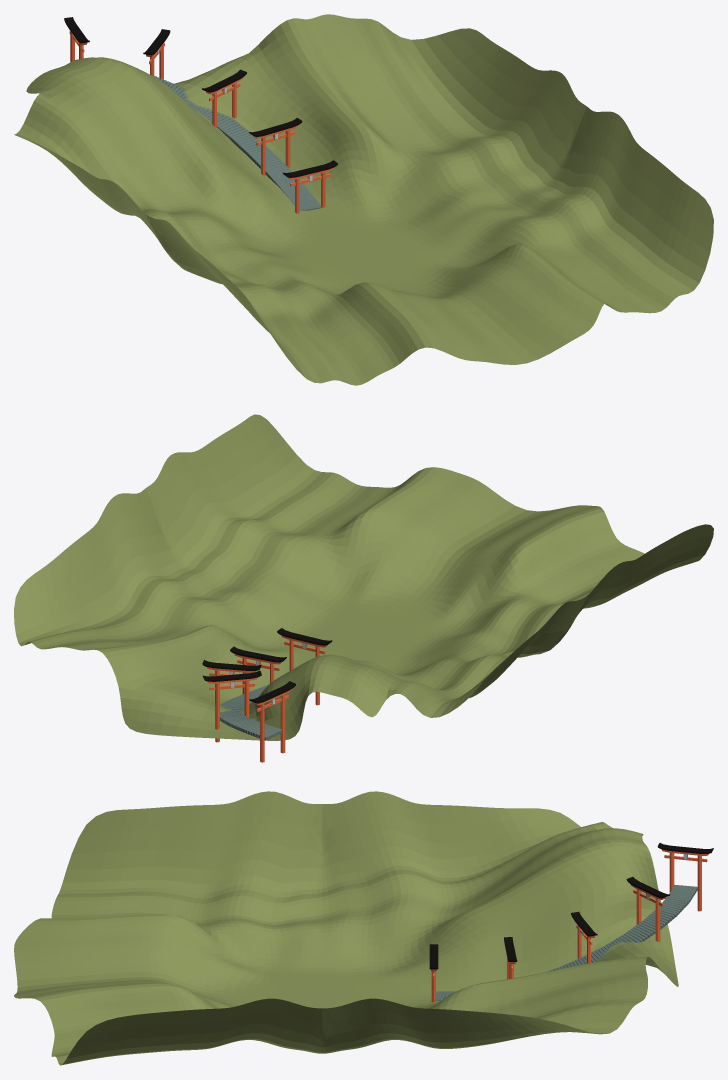
Rendered from bamboo_forest_clearing_ground.glb.
3 renders of one model, top to bottom at view 1: azimuth 30°, elevation 25°; view 2: azimuth 150°, elevation 25°; view 3: azimuth 270°, elevation 25°, orthographic. The views are drawn at different scales.
Visible parts, largest first — view 1: ground.001, path.001, archway.002, archway.003; view 2: ground.001, archway.002, archway.003, path.001; view 3: ground.001, path.001, archway.002, archway.003.
Part boxes in pixels (<box>): ground.001: <box>14,14,713,385</box>; path.001: <box>154,76,321,210</box>; archway.002: <box>69,29,333,213</box>; archway.003: <box>64,17,337,177</box>; ground.001: <box>14,414,713,740</box>; archway.002: <box>207,635,327,762</box>; archway.003: <box>202,628,332,703</box>; path.001: <box>220,684,282,740</box>; ground.001: <box>14,791,678,1065</box>; path.001: <box>436,885,697,1000</box>; archway.002: <box>431,849,708,1002</box>; archway.003: <box>429,843,713,969</box>.
Bounding box in the file's own units: 120 × 33.59 × 170.
